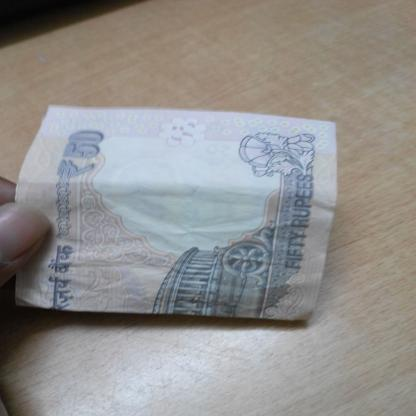Old50Back: (15, 104, 338, 323)
